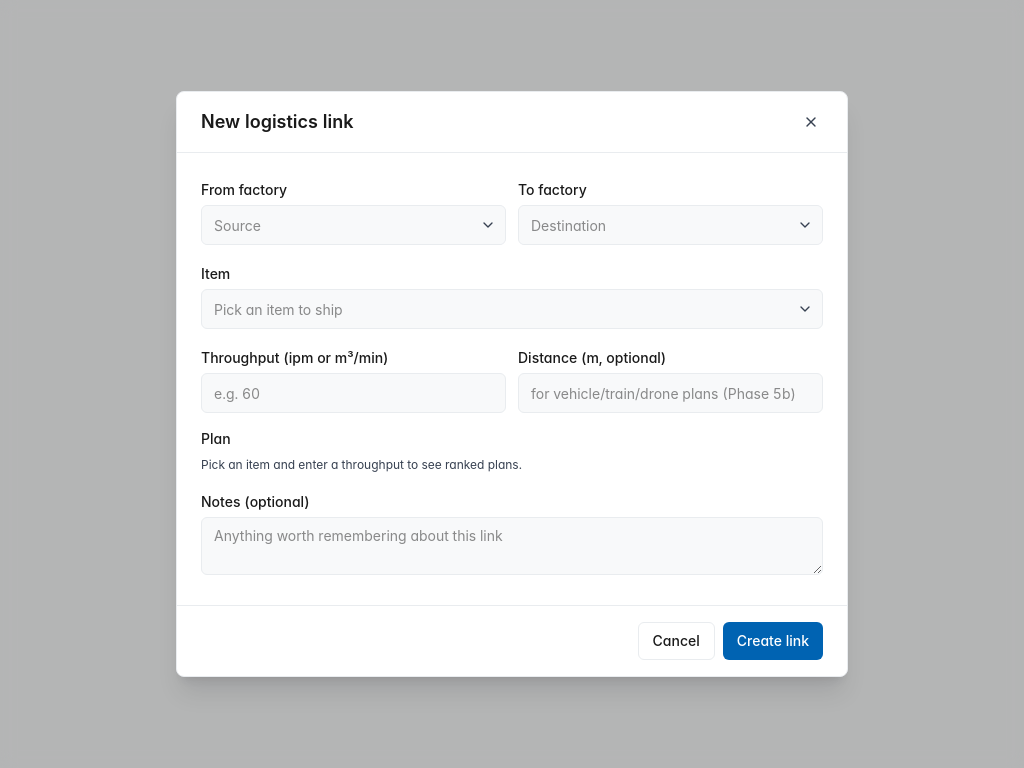
Scenario: <LogisticsLinkEditor /> — map-derived distance › leaves distance blank and hints when an endpoint has never been placed on the map
Click the dropdown labelled "From factory" at (354, 225), box [201,205,506,245]
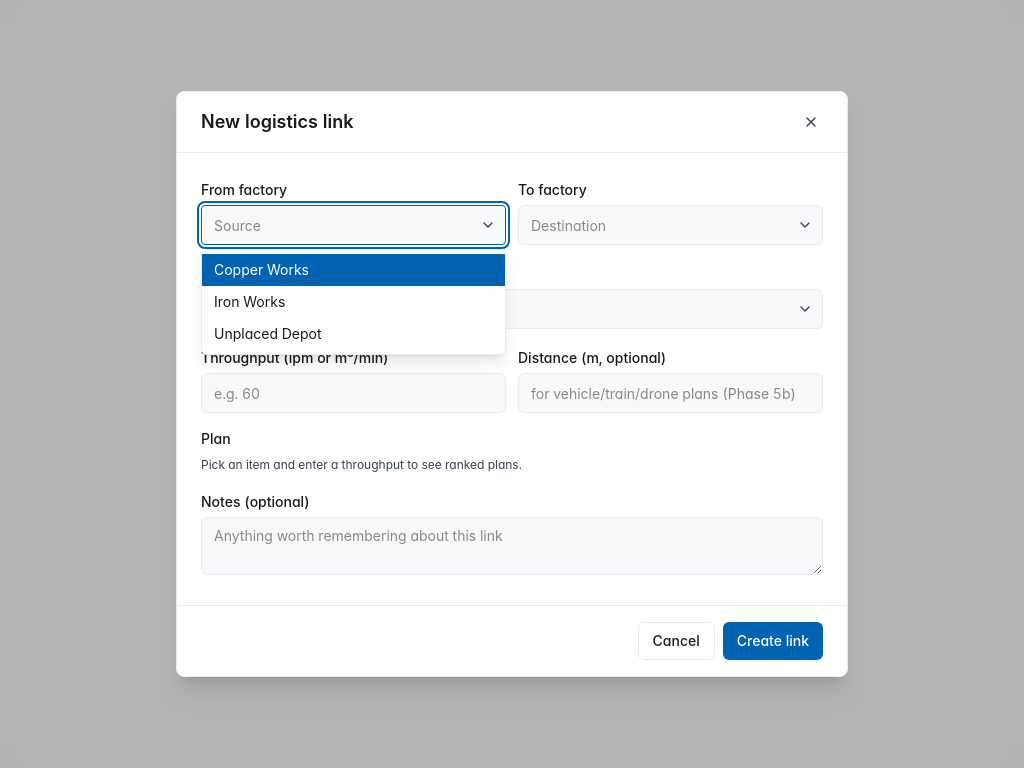
Press Arrowdown
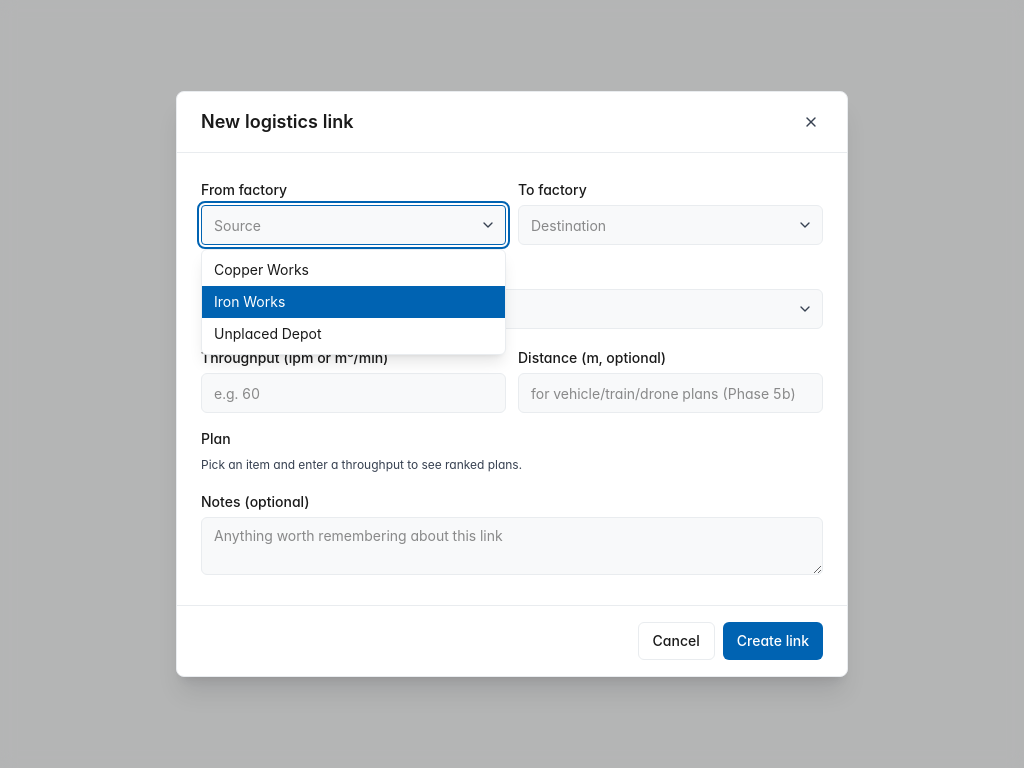
Click the option "Copper Works" at (262, 270), box [214,261,309,278]
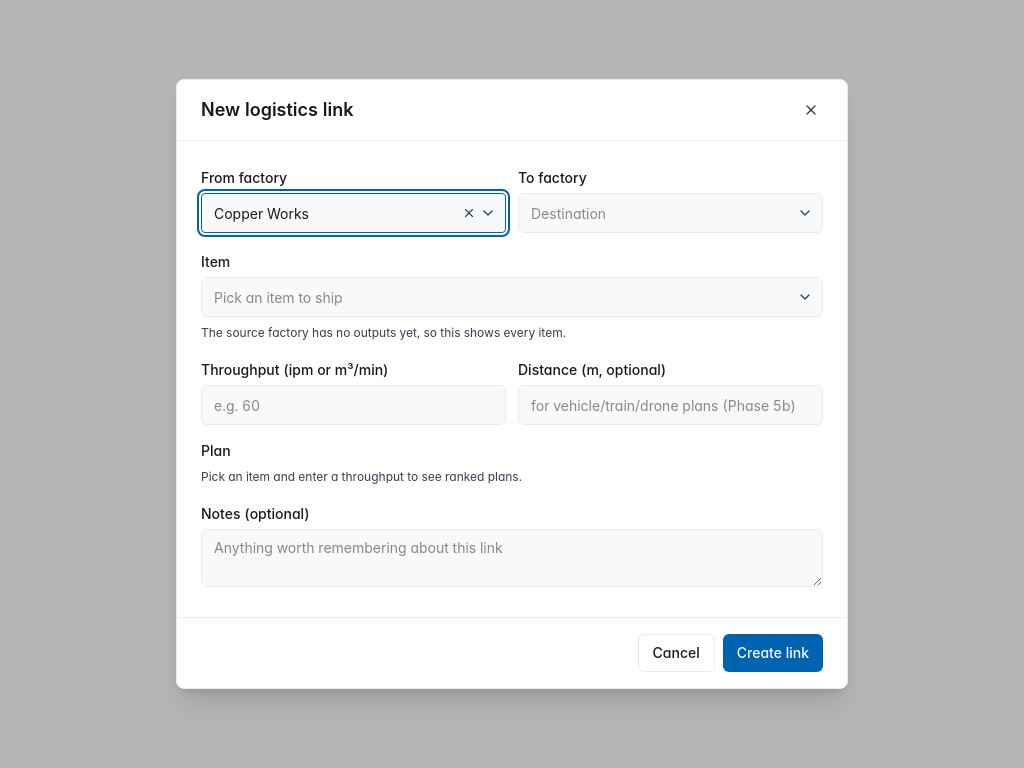
Click the dropdown labelled "To factory" at (670, 213), box [518,193,823,233]
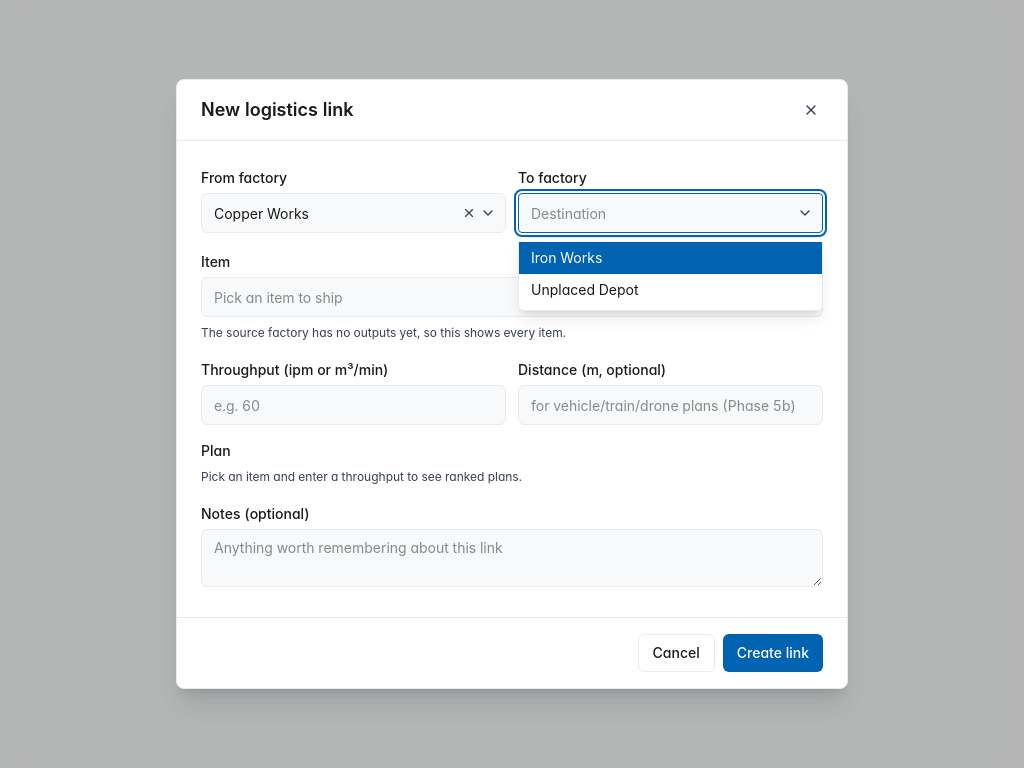
Press Arrowdown
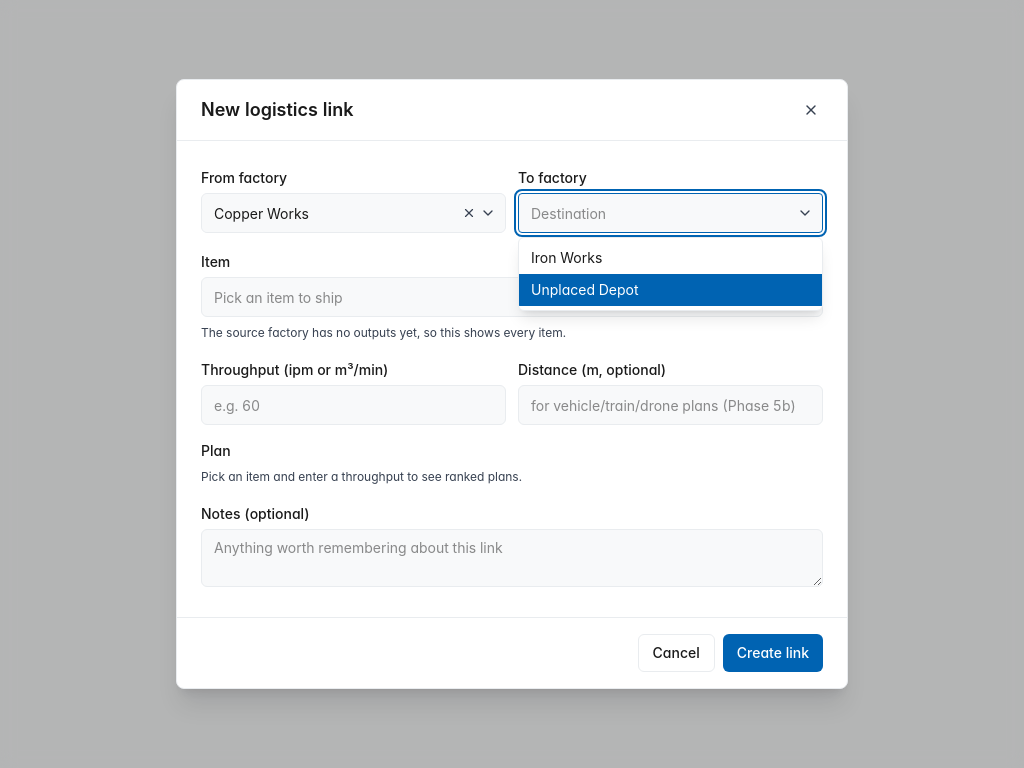
Click the option "Unplaced Depot" at (585, 290), box [519,274,822,306]
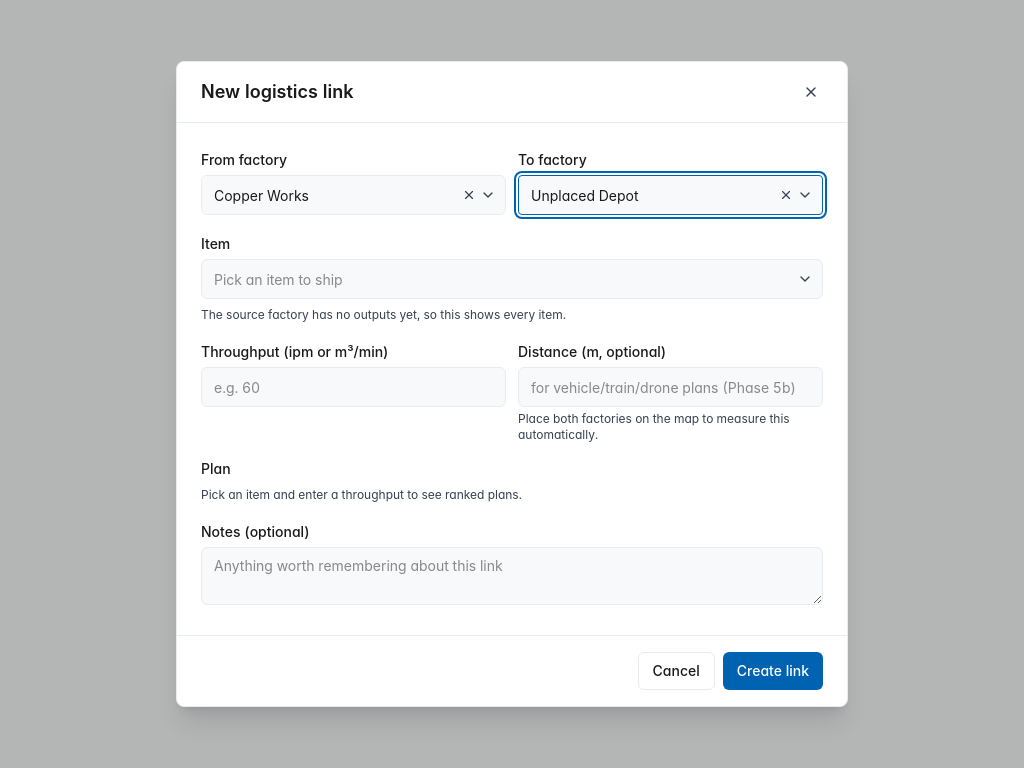
Expected: the number field labelled "Distance (m, optional)" is not empty, [518,367,823,407]
Result: the text "Place both factories on the map" is shown at [518,411,790,442]
